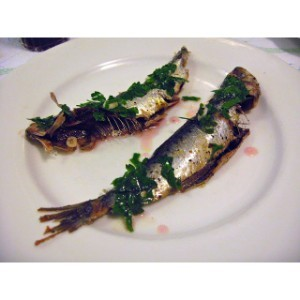sardine_brain food: (33, 50, 265, 252)
